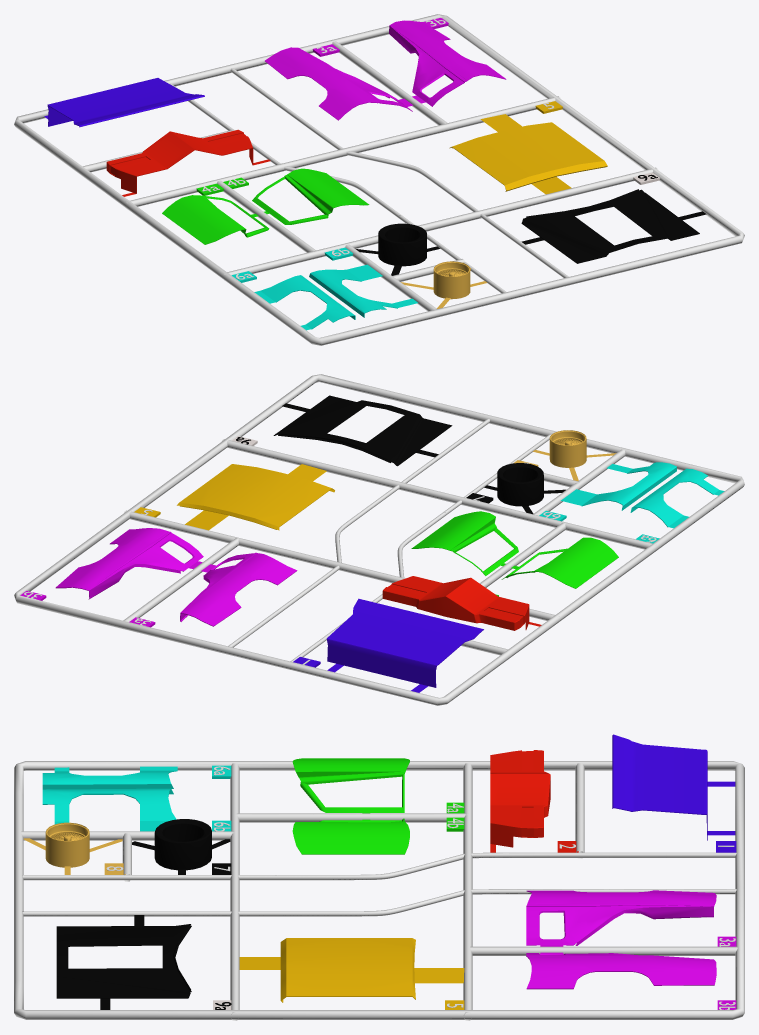
The model's file is BouwKit.fbx.
The picture shows the model from 3 angles, top to bottom: view 1: azimuth 30°, elevation 25°; view 2: azimuth 150°, elevation 25°; view 3: azimuth 270°, elevation 25°; orthographic projection. The views are drawn at different scales.
Visible parts, largest first — view 1: NurbsPath.001, NurbsPath.004, 5, 3, 7, 6b, 1, 6a, 4a, 4b, Cylinder.001, 2b (+2 smaller); view 2: NurbsPath.004, NurbsPath.001, 7, 5, 3, 1, 6b, 6a, 4a, 4b, Cylinder.001, 2b (+2 smaller); view 3: NurbsPath.001, NurbsPath.004, 5, 3, 7, 6a, 1, 6b, 4b, 4a, Cylinder.001, 2b (+2 smaller).
Part boxes in pixels (left/top/right/bottom): NurbsPath.001: left=83, top=41, right=658, bottom=311; NurbsPath.004: left=14, top=14, right=744, bottom=345; 5: left=449, top=114, right=607, bottom=194; 3: left=521, top=189, right=706, bottom=263; 7: left=44, top=78, right=204, bottom=127; 6b: left=389, top=20, right=506, bottom=106; 1: left=106, top=129, right=270, bottom=196; 6a: left=265, top=47, right=413, bottom=120; 4a: left=162, top=195, right=269, bottom=244; 4b: left=252, top=168, right=369, bottom=224; Cylinder.001: left=356, top=223, right=440, bottom=275; 2b: left=309, top=264, right=417, bottom=317; NurbsPath.004: left=14, top=374, right=744, bottom=705; NurbsPath.001: left=123, top=419, right=655, bottom=661; 7: left=326, top=598, right=483, bottom=692; 5: left=177, top=464, right=334, bottom=530; 3: left=273, top=395, right=452, bottom=466; 1: left=382, top=576, right=541, bottom=630; 6b: left=55, top=528, right=203, bottom=599; 6a: left=180, top=552, right=297, bottom=626; 4a: left=501, top=537, right=618, bottom=588; 4b: left=411, top=511, right=518, bottom=575; Cylinder.001: left=484, top=463, right=565, bottom=514; 2b: left=561, top=462, right=676, bottom=510; NurbsPath.001: left=21, top=763, right=737, bottom=1020; NurbsPath.004: left=14, top=761, right=744, bottom=1019; 5: left=239, top=938, right=464, bottom=1002; 3: left=56, top=915, right=191, bottom=1009; 7: left=612, top=734, right=735, bottom=840; 6a: left=526, top=890, right=716, bottom=946; 1: left=490, top=750, right=550, bottom=852; 6b: left=526, top=952, right=716, bottom=989; 4b: left=292, top=818, right=409, bottom=854; 4a: left=292, top=758, right=409, bottom=813; Cylinder.001: left=132, top=819, right=230, bottom=874; 2b: left=42, top=788, right=176, bottom=831.
Size of the model in its own units: 3.84 by 0.3079 by 4.68.
